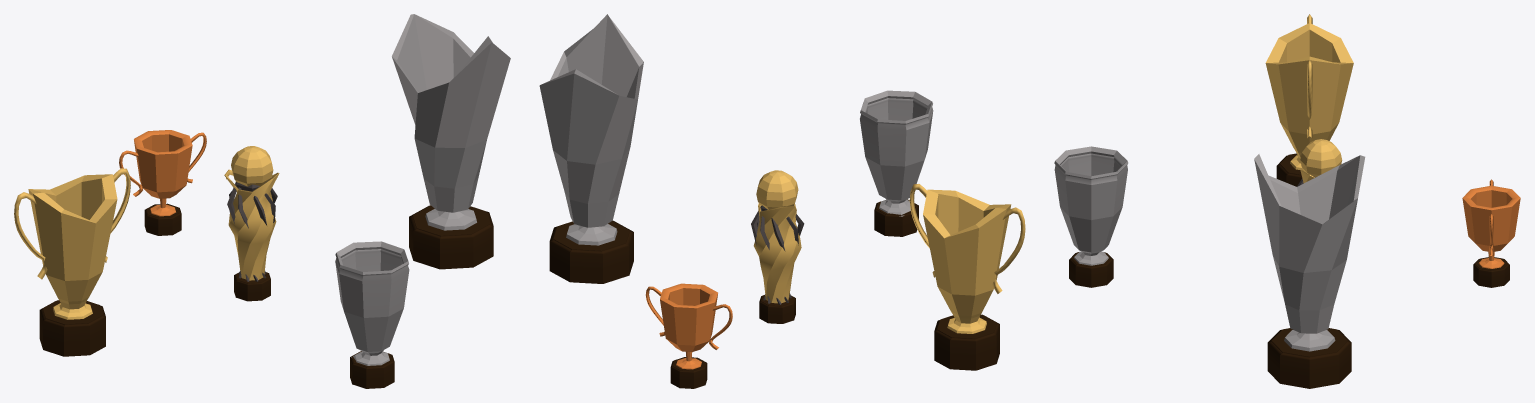
File: Cups.glb
3 views of the same model, side by side, from view 1: azimuth 30°, elevation 25°; view 2: azimuth 150°, elevation 25°; view 3: azimuth 270°, elevation 25° (orthographic). The views are drawn at different scales.
Parts seen in each view (by area): view 1: revolvedSurface1_ncl1_3, revolvedSurface1_ncl1_2, revolvedSurface1_ncl1_1, pCylinder1_ncl1_3, revolvedSurface1, pCylinder2, pCylinder1_ncl1_2, pSphere1, pCylinder1_ncl1_1, pCylinder1, pCylinder1_ncl1_5, extrudedSurface2_ncl1_1 (+1 smaller); view 2: revolvedSurface1_ncl1_3, revolvedSurface1_ncl1_2, revolvedSurface1_ncl1_1, pCylinder1_ncl1_3, revolvedSurface1, pCylinder2, pCylinder1_ncl1_2, pSphere1, pCylinder1_ncl1_1, pCylinder1, pCylinder1_ncl1_5, extrudedSurface2_ncl1_1 (+1 smaller); view 3: revolvedSurface1_ncl1_3, revolvedSurface1_ncl1_2, revolvedSurface1_ncl1_1, pCylinder1_ncl1_3, revolvedSurface1, pSphere1, pCylinder1_ncl1_1, pCylinder1, pCylinder1_ncl1_2.
Boxes of the visible parts, <box> form: revolvedSurface1_ncl1_3: <box>392,14,510,230</box>; revolvedSurface1_ncl1_2: <box>28,174,117,319</box>; revolvedSurface1_ncl1_1: <box>335,241,409,365</box>; pCylinder1_ncl1_3: <box>409,205,493,269</box>; revolvedSurface1: <box>134,130,192,216</box>; pCylinder2: <box>224,169,279,280</box>; pCylinder1_ncl1_2: <box>39,300,105,356</box>; pSphere1: <box>231,146,273,186</box>; pCylinder1_ncl1_1: <box>350,351,394,388</box>; pCylinder1: <box>144,203,181,235</box>; pCylinder1_ncl1_5: <box>234,272,270,301</box>; extrudedSurface2_ncl1_1: <box>14,192,47,279</box>; revolvedSurface1_ncl1_3: <box>539,14,643,245</box>; revolvedSurface1_ncl1_2: <box>923,189,1011,333</box>; revolvedSurface1_ncl1_1: <box>860,90,933,216</box>; pCylinder1_ncl1_3: <box>549,220,633,283</box>; revolvedSurface1: <box>660,283,717,369</box>; pCylinder2: <box>753,203,801,303</box>; pCylinder1_ncl1_2: <box>934,314,999,370</box>; pSphere1: <box>756,170,798,209</box>; pCylinder1_ncl1_1: <box>874,199,918,236</box>; pCylinder1: <box>670,357,707,388</box>; pCylinder1_ncl1_5: <box>759,295,795,323</box>; extrudedSurface2_ncl1_1: <box>992,207,1025,293</box>; revolvedSurface1_ncl1_3: <box>1254,154,1365,351</box>; revolvedSurface1_ncl1_2: <box>1265,23,1353,170</box>; revolvedSurface1_ncl1_1: <box>1054,146,1128,265</box>; pCylinder1_ncl1_3: <box>1267,328,1351,388</box>; revolvedSurface1: <box>1462,185,1520,268</box>; pSphere1: <box>1300,139,1342,176</box>; pCylinder1_ncl1_1: <box>1069,252,1113,287</box>; pCylinder1: <box>1473,257,1509,287</box>; pCylinder1_ncl1_2: <box>1276,153,1302,186</box>.
Bounding box in the file's own units: 0.5008 × 0.2312 × 0.4396.
